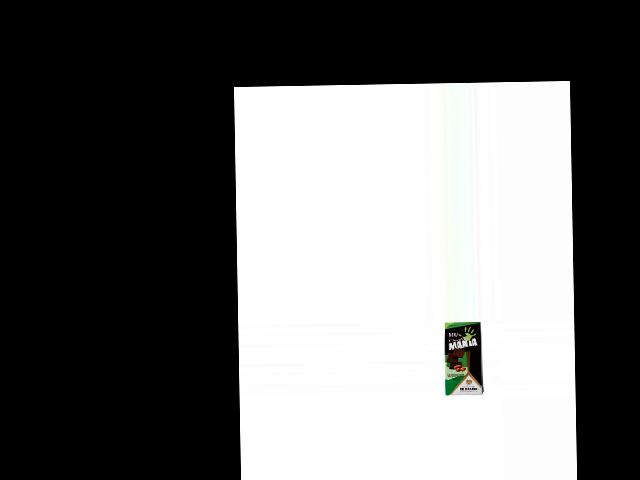chocolate: (442, 320, 484, 396)
